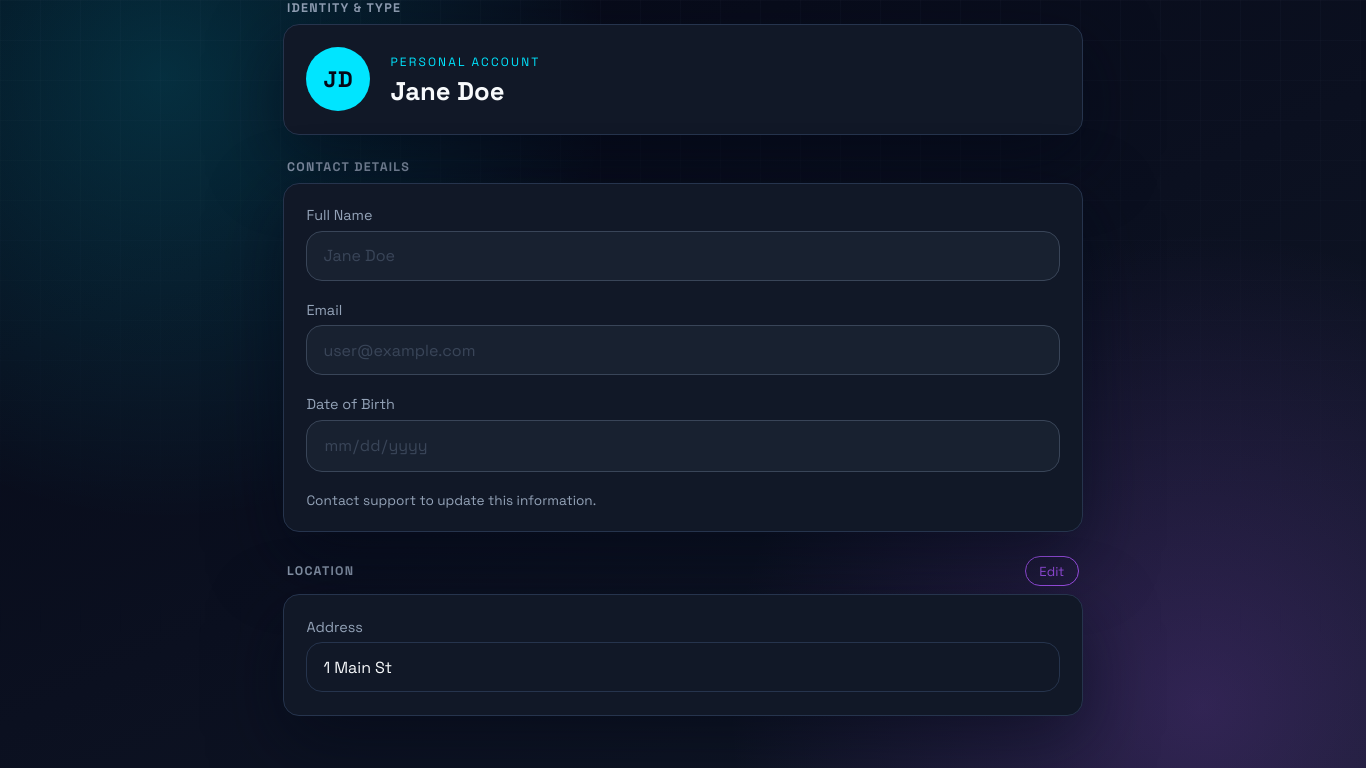
Test: CustomerProfilePage › address editing › shows a success banner after address is saved successfully
The image size is (1366, 768).
Step 1. Click the button "Edit" → (1052, 571), box [1025,556,1079,586]
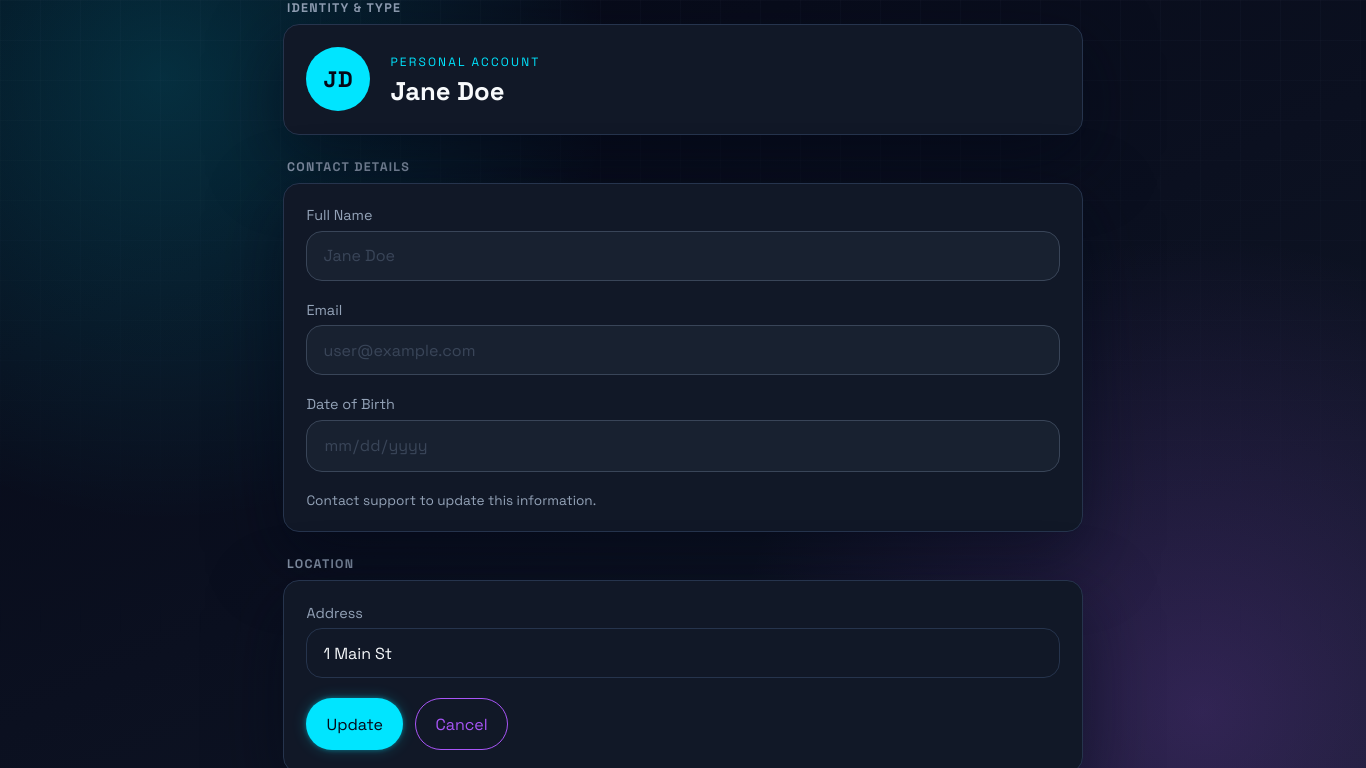
Step 2. Click the button "Update" → (355, 724), box [306,698,403,750]
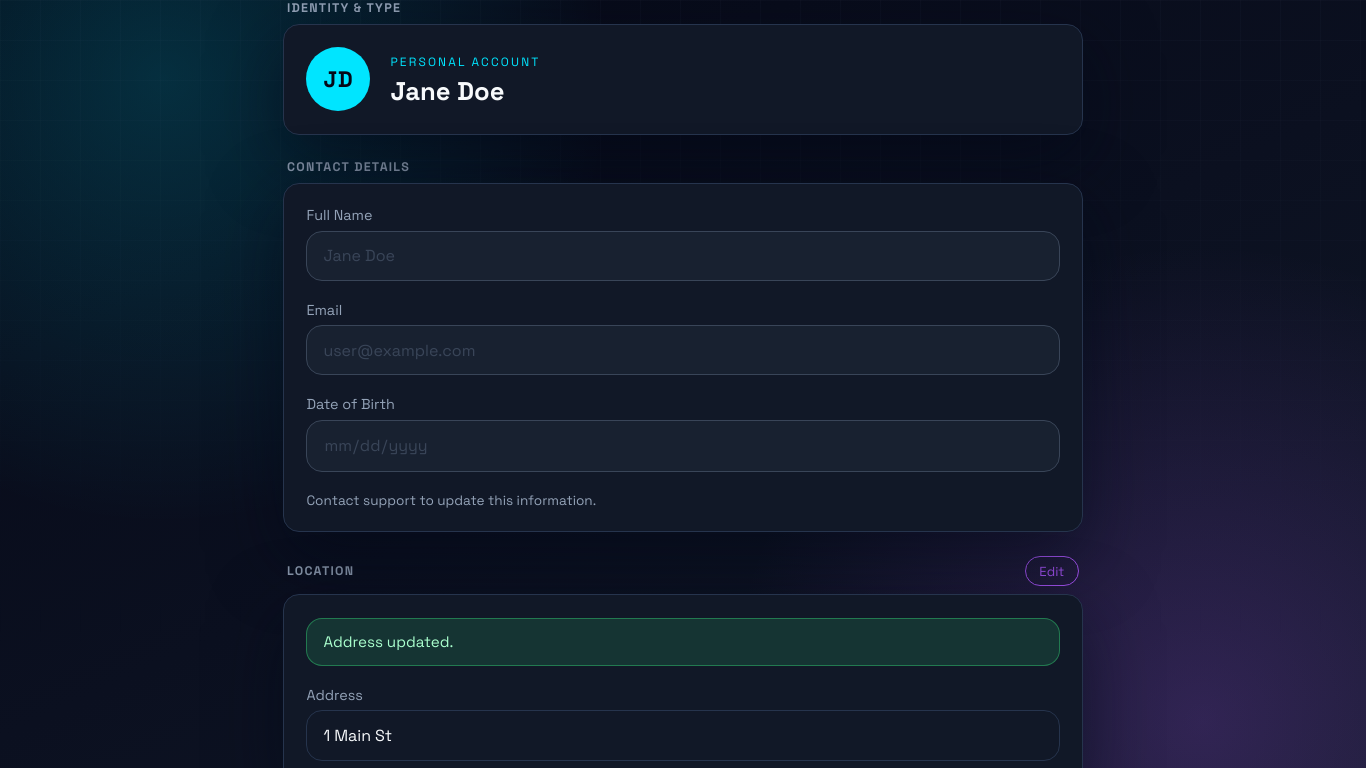
Expected: the text "Address updated." is shown, [306,618,1060,666]
